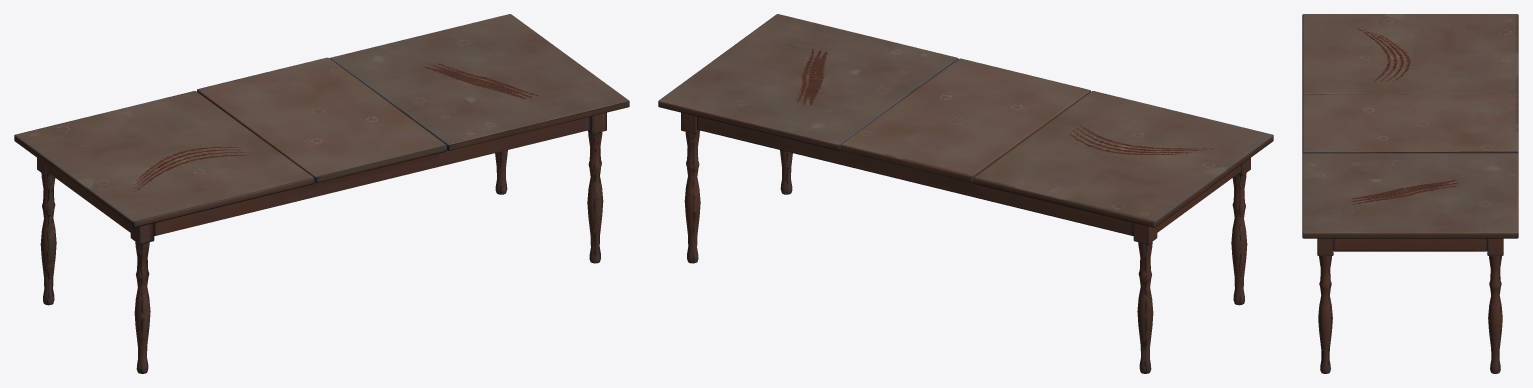
The model's file is furniture_table_dining.glb.
The picture shows the model from 3 angles, left to right: view 1: azimuth 30°, elevation 25°; view 2: azimuth 150°, elevation 25°; view 3: azimuth 270°, elevation 25°; orthographic projection. The views are drawn at different scales.
Visible parts, largest first — view 1: furniture_table_dining; view 2: furniture_table_dining; view 3: furniture_table_dining.
Boxes of the visible parts, <box> form: furniture_table_dining: <box>14,14,629,373</box>; furniture_table_dining: <box>658,14,1273,373</box>; furniture_table_dining: <box>1302,14,1518,373</box>.
Bounding box in the file's own units: 2.4 × 0.7647 × 1.
1 material, 1 textured.
